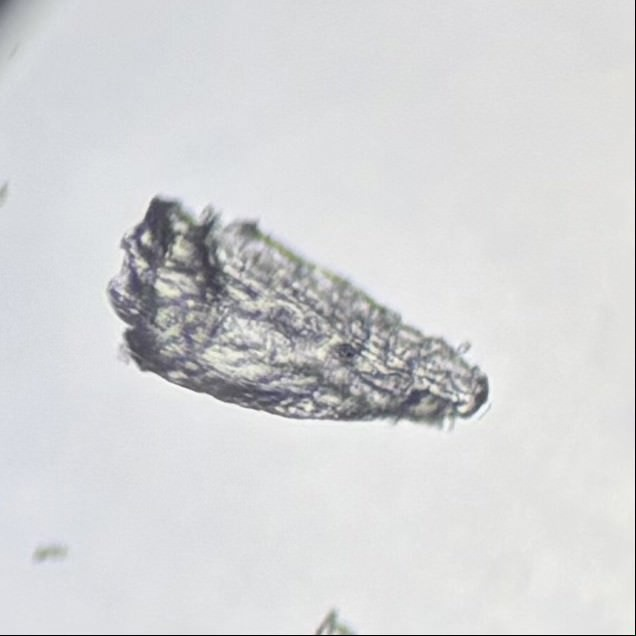microplastic: (99, 190, 497, 438)
